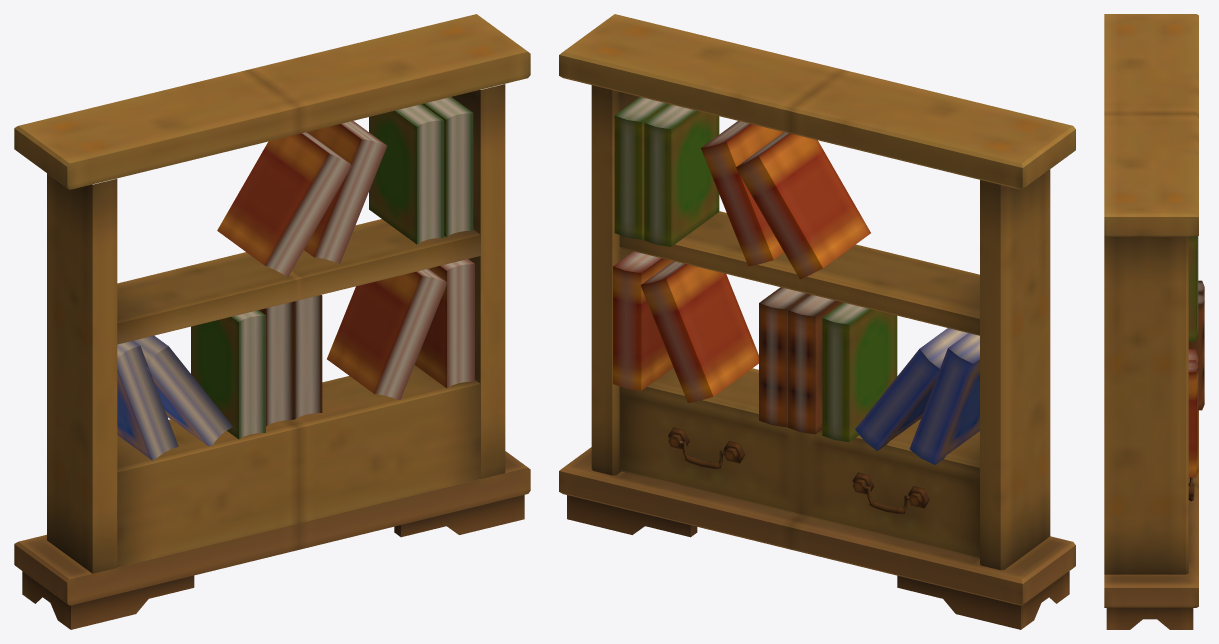
The model's file is Bookcase_03.gltf.
3 renders of one model, left to right at view 1: azimuth 30°, elevation 25°; view 2: azimuth 150°, elevation 25°; view 3: azimuth 270°, elevation 25°, orthographic. The views are drawn at different scales.
Parts seen in each view (by area): view 1: Bookcase_03; view 2: Bookcase_03; view 3: Bookcase_03.
Part boxes in pixels (x1,y1,x2,y2): Bookcase_03: (14, 14, 530, 629); Bookcase_03: (559, 14, 1075, 629); Bookcase_03: (1104, 14, 1204, 629).
Bounding box in the file's own units: 62 × 59.81 × 13.04.
Materials: 1 (1 with a texture image).
